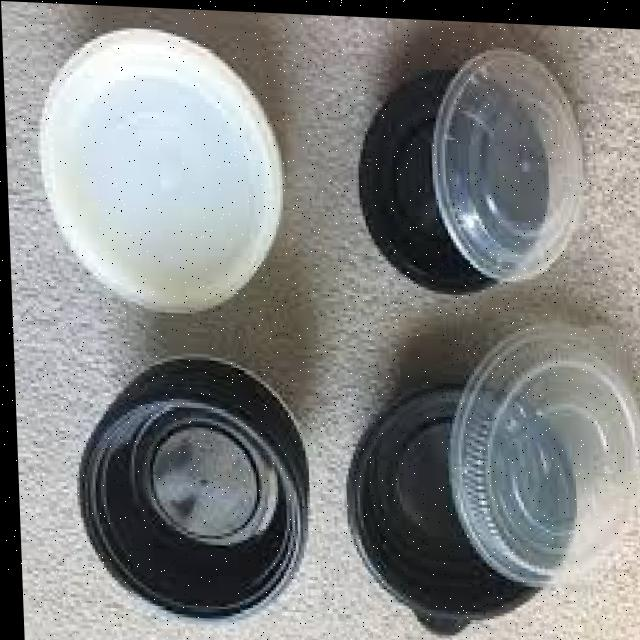disposable: (16, 19, 302, 315), (332, 361, 568, 631), (67, 386, 316, 609), (333, 56, 556, 292)
